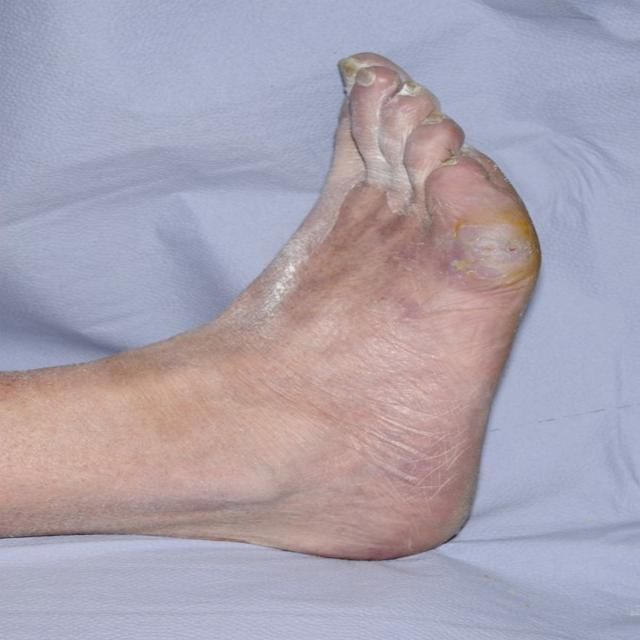wound: (438, 215, 537, 289)
